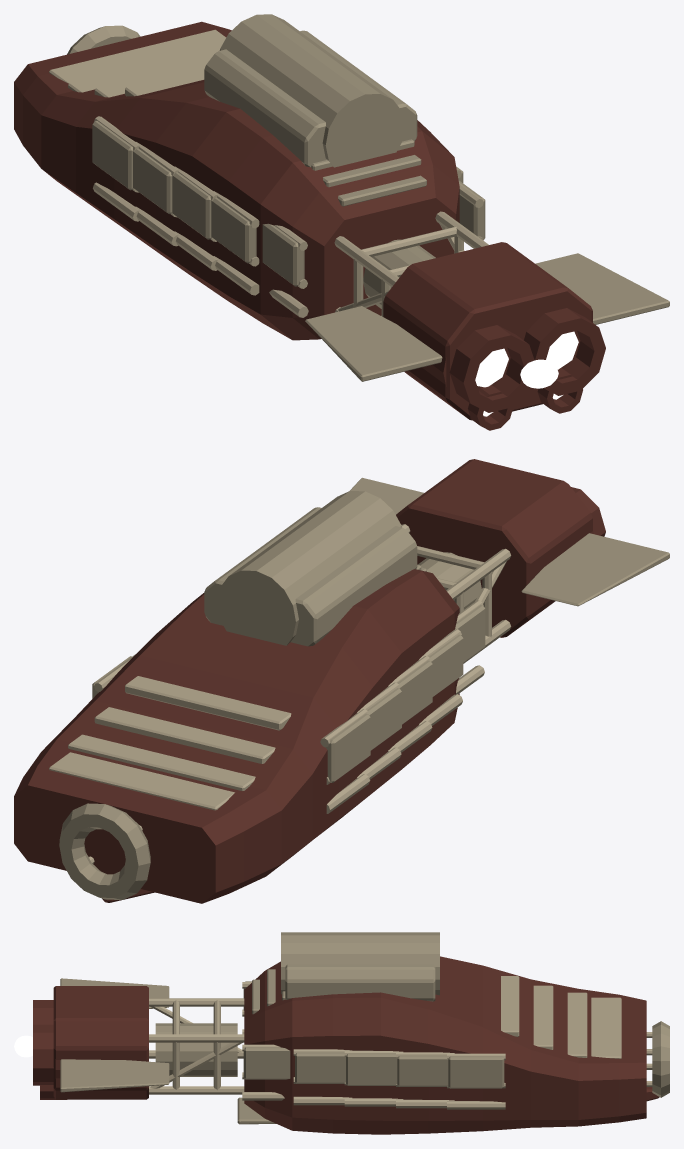
The picture shows the model from 3 angles, top to bottom: view 1: azimuth 30°, elevation 25°; view 2: azimuth 150°, elevation 25°; view 3: azimuth 270°, elevation 25°; orthographic projection. The views are drawn at different scales.
Visible parts, largest first — view 1: RIMWARD_HULL, RIMWARD_EMISSIVE, RIMWARD_ENGINE_GLOW; view 2: RIMWARD_HULL; view 3: RIMWARD_HULL, RIMWARD_ENGINE_GLOW.
Boxes of the visible parts, left/top/right/bottom form: RIMWARD_HULL: left=14, top=14, right=669, bottom=430; RIMWARD_EMISSIVE: left=475, top=331, right=578, bottom=416; RIMWARD_ENGINE_GLOW: left=520, top=359, right=558, bottom=388; RIMWARD_HULL: left=14, top=459, right=669, bottom=903; RIMWARD_HULL: left=33, top=932, right=669, bottom=1134; RIMWARD_ENGINE_GLOW: left=14, top=1035, right=32, bottom=1057.
Size of the model in its own units: 4.21 by 3.17 by 10.58.
